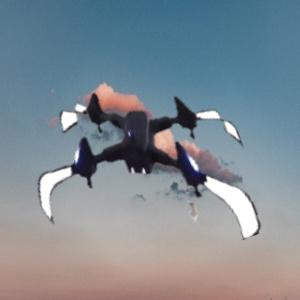drone: (29, 55, 249, 275)
